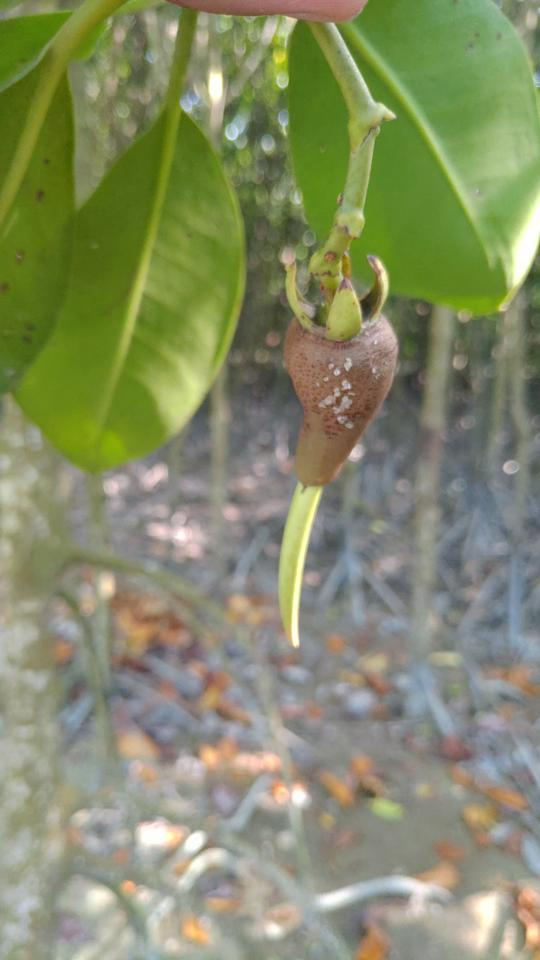mentah: (253, 238, 419, 675)
